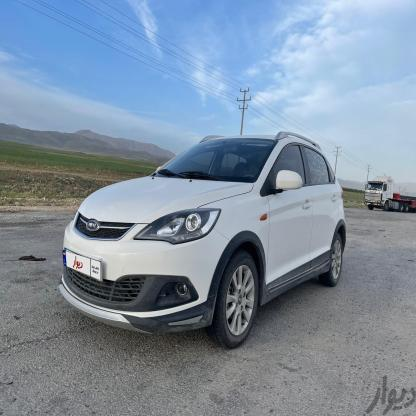Car: (44, 122, 348, 345)
Truck: (363, 162, 416, 210)
